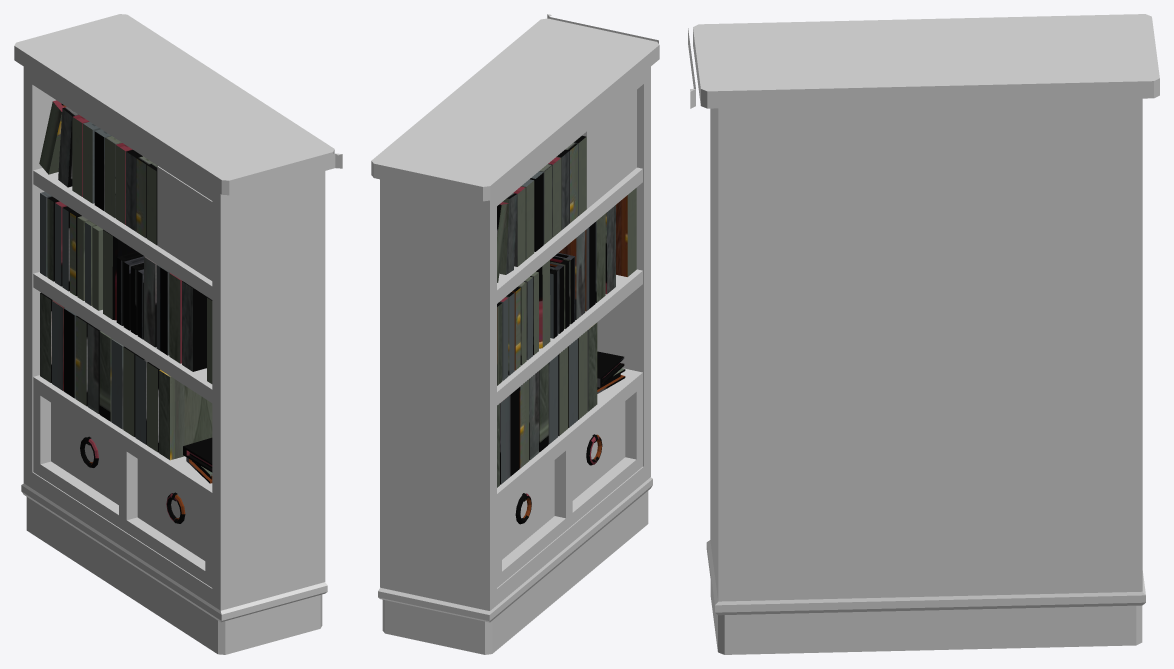
File: Estanteria_2.fbx
3 views of the same model, side by side, from view 1: azimuth 30°, elevation 25°; view 2: azimuth 150°, elevation 25°; view 3: azimuth 270°, elevation 25° (orthographic). The views are drawn at different scales.
Parts seen in each view (by area): view 1: Plane.064; view 2: Plane.064; view 3: Plane.064.
Boxes of the visible parts, x1=… form: Plane.064: x1=14, y1=14, x2=342, y2=654; Plane.064: x1=371, y1=14, x2=659, y2=654; Plane.064: x1=688, y1=14, x2=1159, y2=654.
Size of the model in its own units: 63.15 by 214 by 162.
